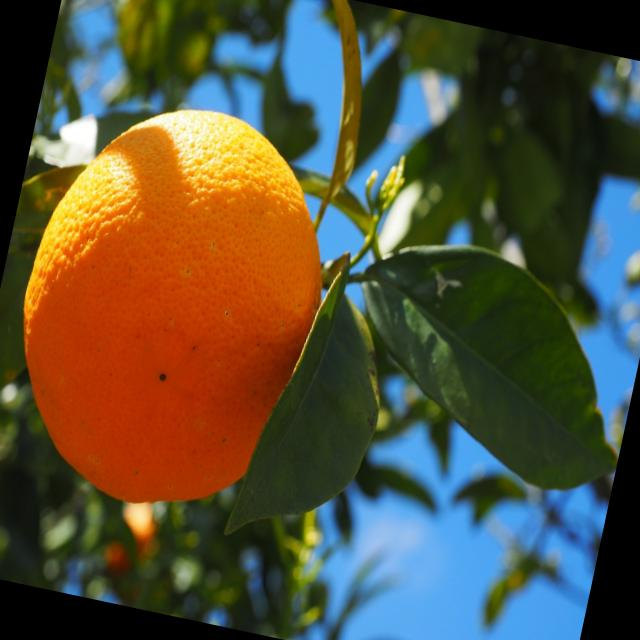orange: (0, 81, 365, 567)
